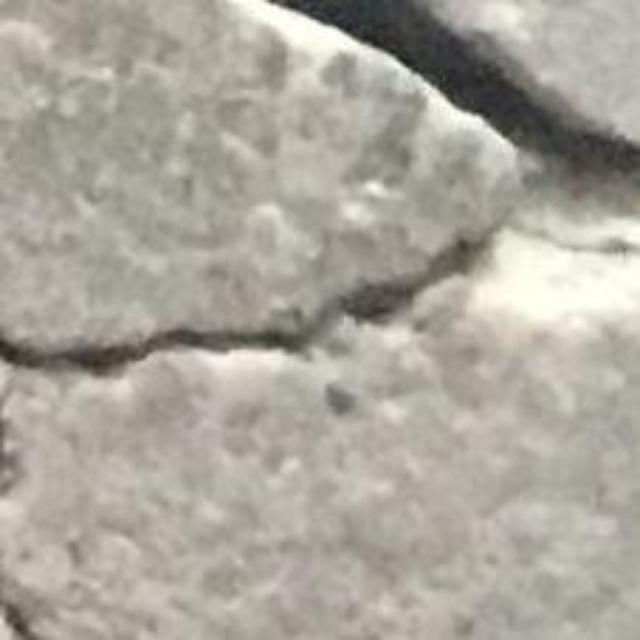crack: (0, 232, 493, 369)
